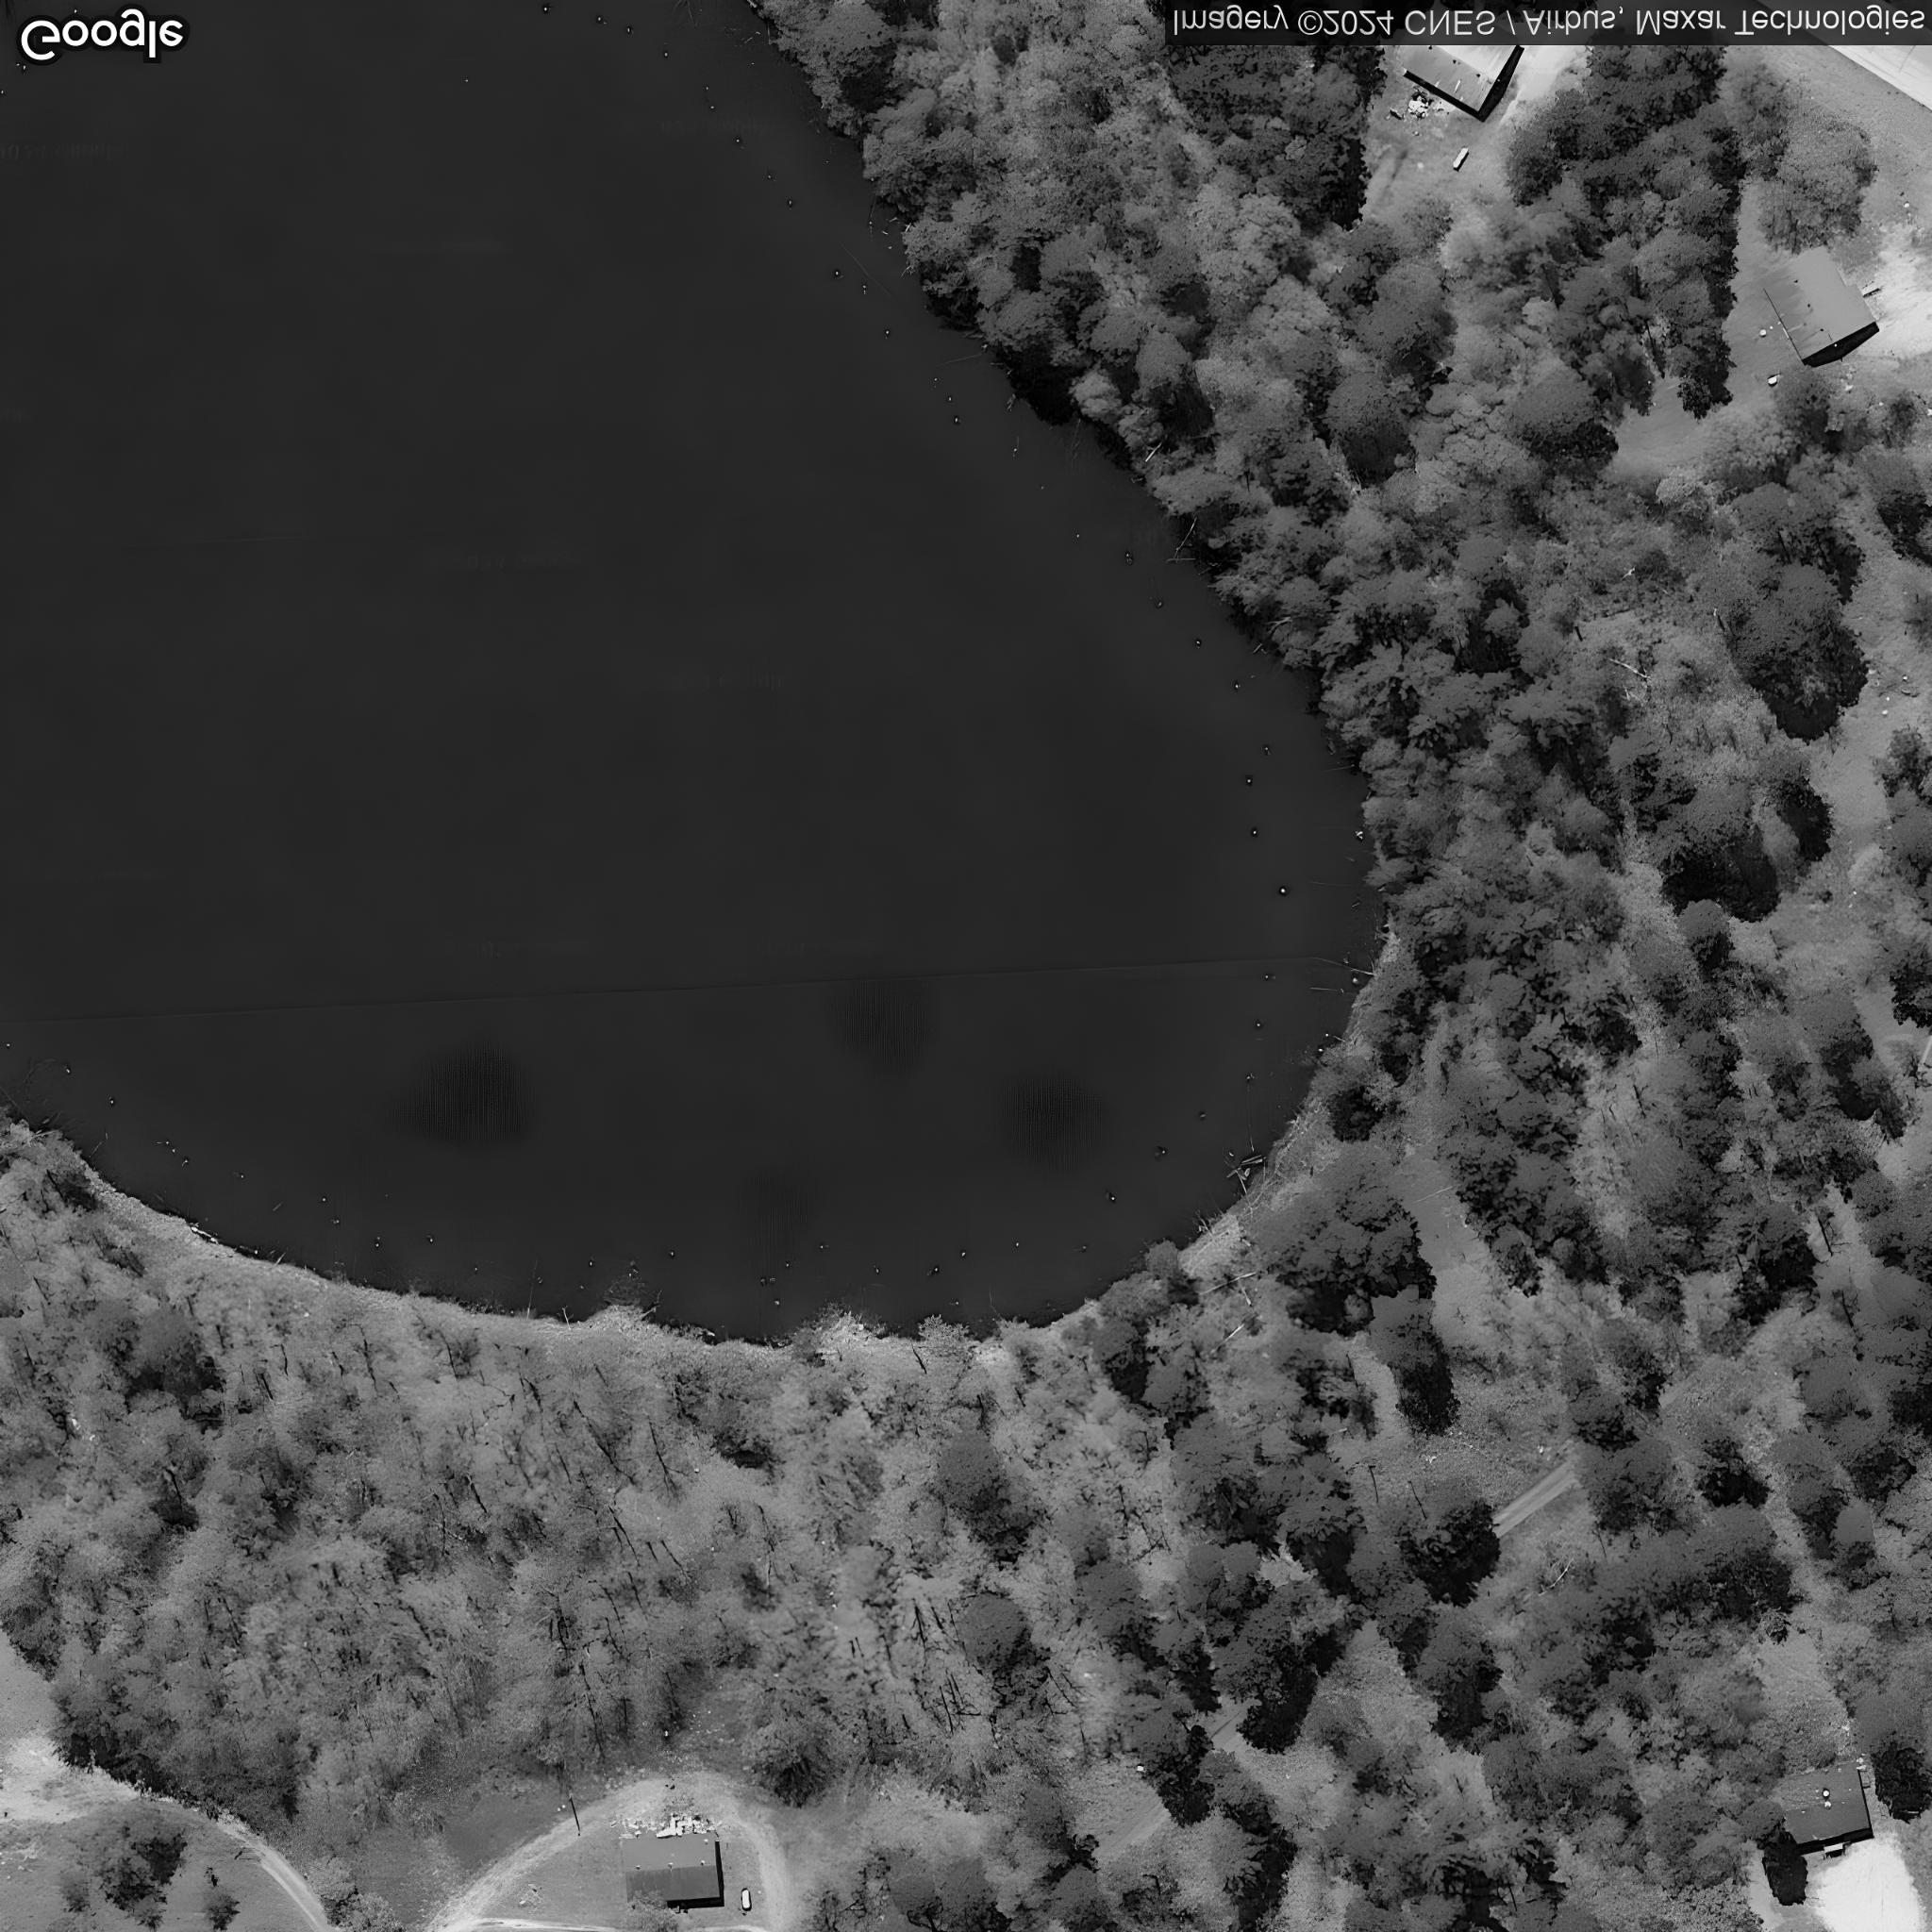House: (1759, 244, 1877, 364), (1775, 1753, 1872, 1847), (1398, 46, 1520, 115), (619, 1833, 724, 1904)
Propane: (1449, 143, 1474, 173), (741, 1886, 752, 1913)
